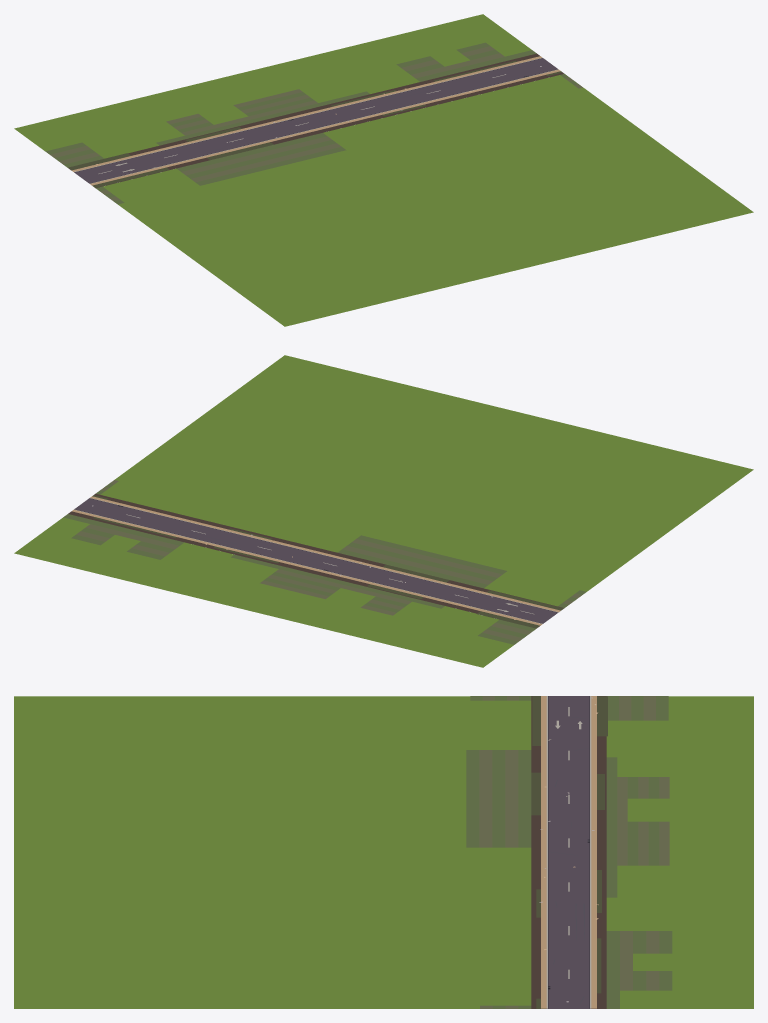
The model's file is cure-6-2.glb.
3 views of the same model, one above another, from view 1: azimuth 30°, elevation 25°; view 2: azimuth 150°, elevation 25°; view 3: azimuth 270°, elevation 25° (orthographic). The views are drawn at different scales.
Visible parts, largest first — view 1: cure-6-2; view 2: cure-6-2; view 3: cure-6-2.
Boxes of the visible parts, x1,y1,x2,y2 form: cure-6-2: [14, 14, 753, 326]; cure-6-2: [14, 355, 753, 667]; cure-6-2: [14, 696, 753, 1008].
Size of the model in its own units: 100 by 0.017 by 100.
